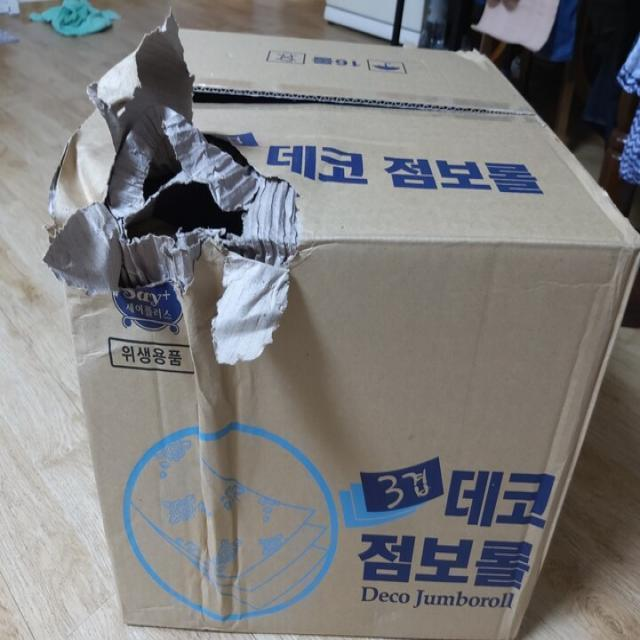damaged: (90, 92, 298, 285)
